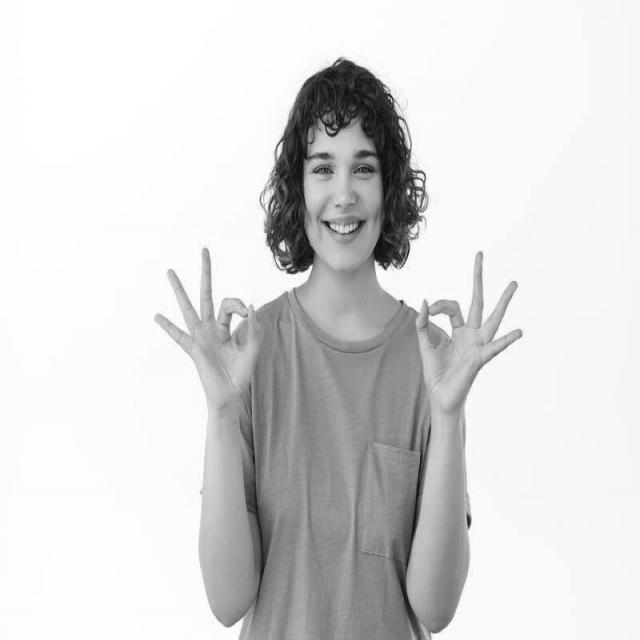perfect: (412, 244, 527, 422), (150, 242, 265, 417)
